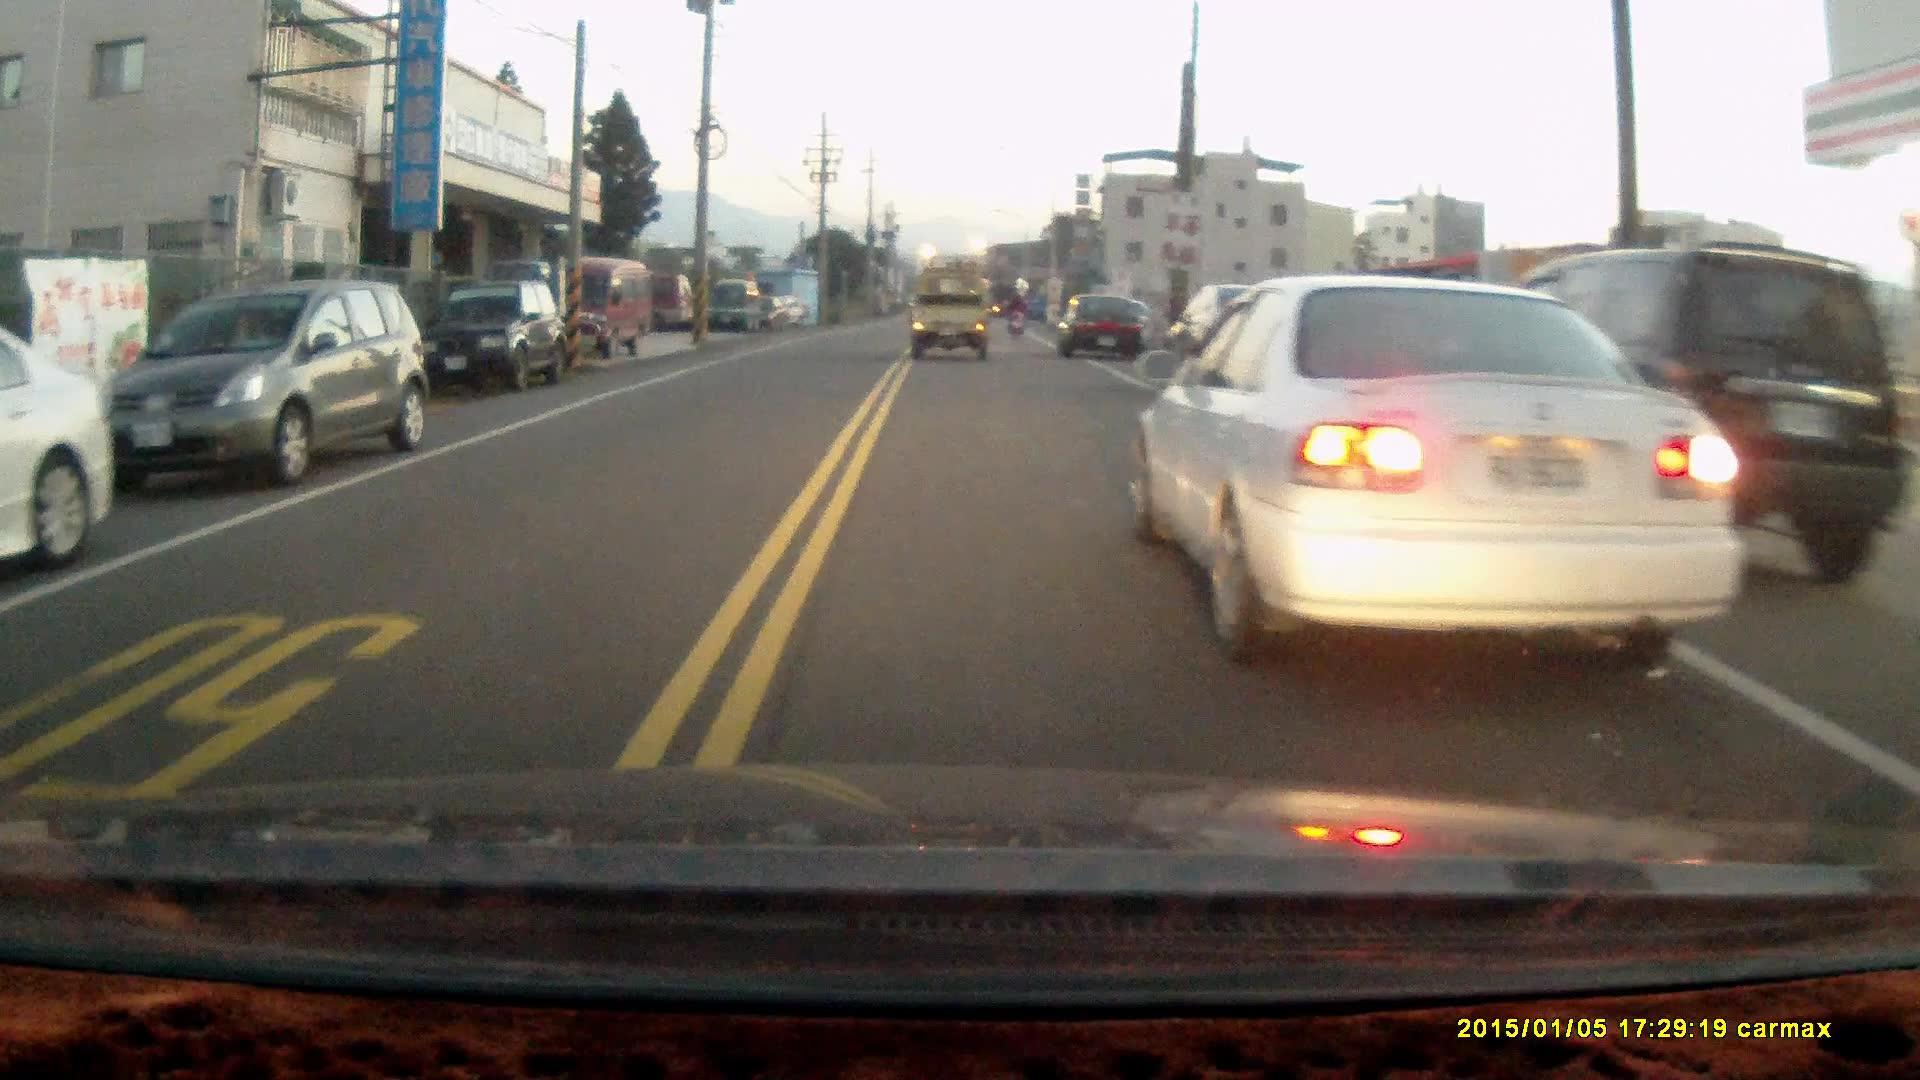rider: (1004, 287, 1031, 335)
vehicle: (1129, 270, 1748, 661), (1472, 247, 1898, 600), (100, 276, 431, 485), (1, 306, 114, 573), (442, 275, 566, 396), (549, 258, 663, 356), (919, 269, 994, 359), (1059, 295, 1154, 364), (710, 278, 770, 330)
